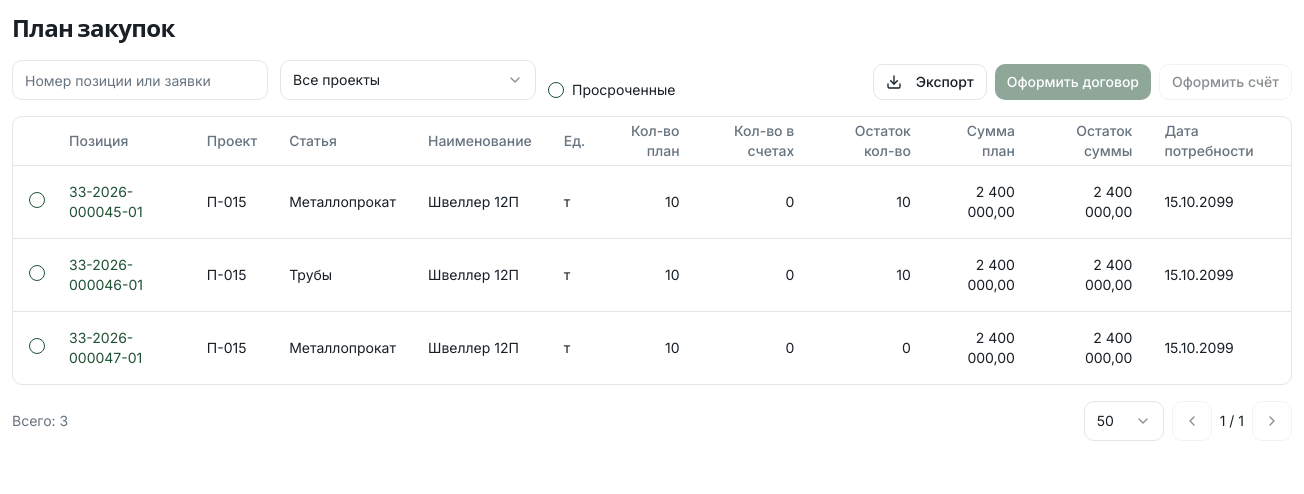
Test: PlanPage › разные статьи — кнопки документа недоступны, остаток 0 — флажок недоступен
Click the checkbox named "Отметить ЗЗ-2026-000045-01": [37, 200] box [29,192,45,208]
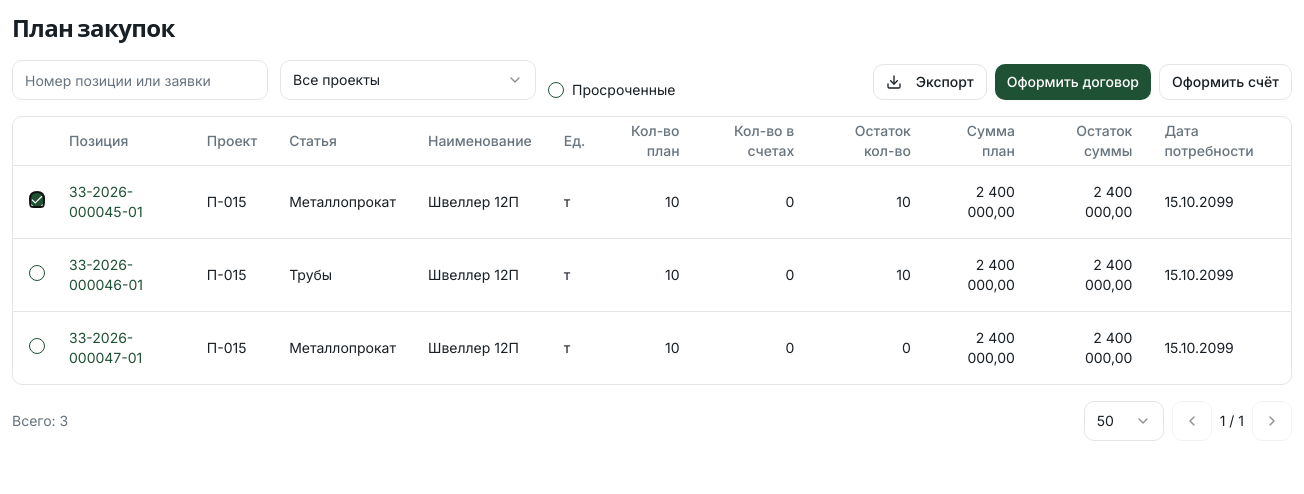
Click the checkbox named "Отметить ЗЗ-2026-000046-01": [37, 272] box [29,264,45,280]
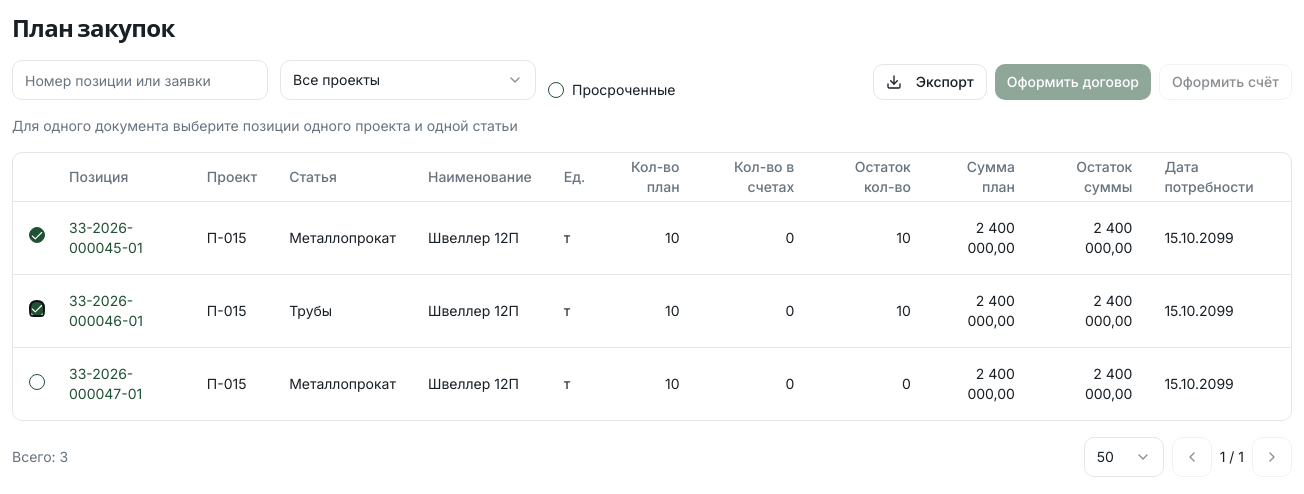
Expected: the checkbox named "Отметить ЗЗ-2026-000047-01" is disabled, [29,374,45,390]
Expected: the button "Оформить договор" is disabled, [995,64,1151,100]
Expected: the message reads "Для одного документа выберите позиции одного проекта и одной статьи", [12,117,518,134]
